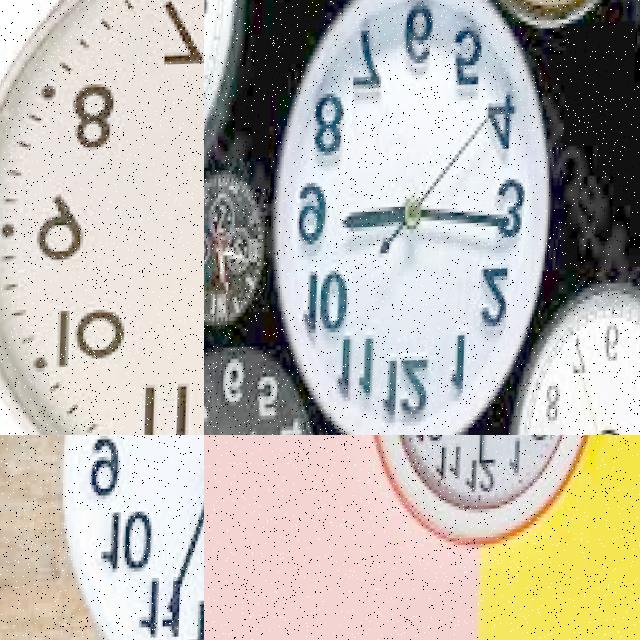Clocks-images: (267, 1, 558, 436), (1, 1, 205, 436), (63, 436, 205, 640), (367, 436, 596, 553), (513, 284, 640, 436), (205, 346, 331, 436), (205, 176, 271, 329)
